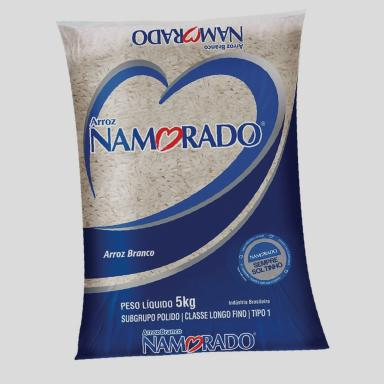rice package: (59, 13, 327, 358)
